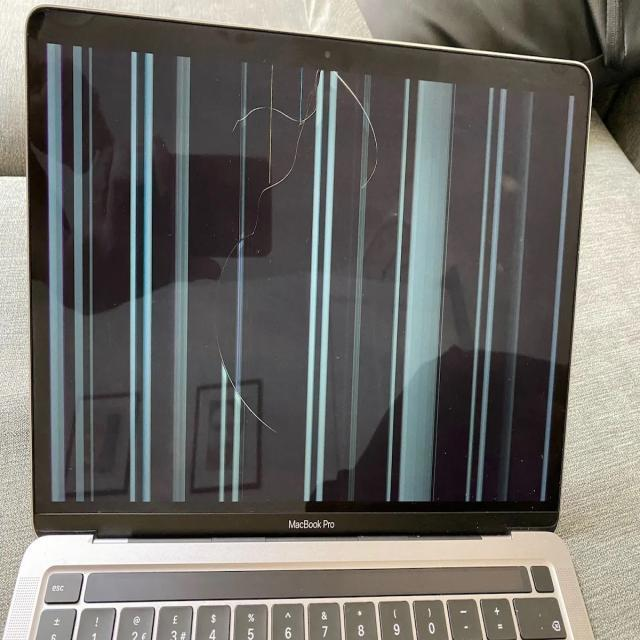Screen cracks: (208, 68, 394, 434)
